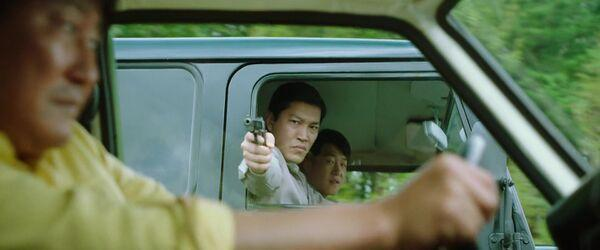Gun: (244, 117, 266, 138)
